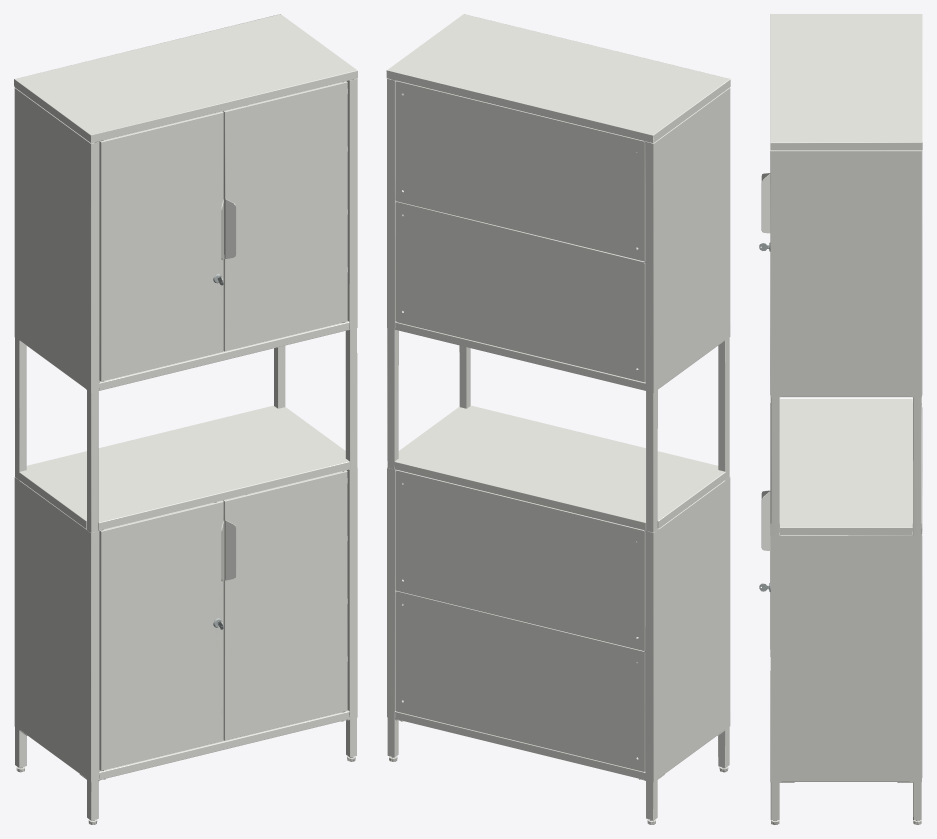
3 views of the same model, side by side, from view 1: azimuth 30°, elevation 25°; view 2: azimuth 150°, elevation 25°; view 3: azimuth 270°, elevation 25° (orthographic).
Parts seen in each view (by area): view 1: 30474766; view 2: 30474766; view 3: 30474766.
Boxes of the visible parts, box(x1,y1,x2,y2) form: 30474766: box(14, 14, 357, 824); 30474766: box(386, 14, 730, 824); 30474766: box(759, 14, 922, 824).
Bounding box in the file's own units: 0.6998 × 1.73 × 0.3752.
1 material, 1 textured.
